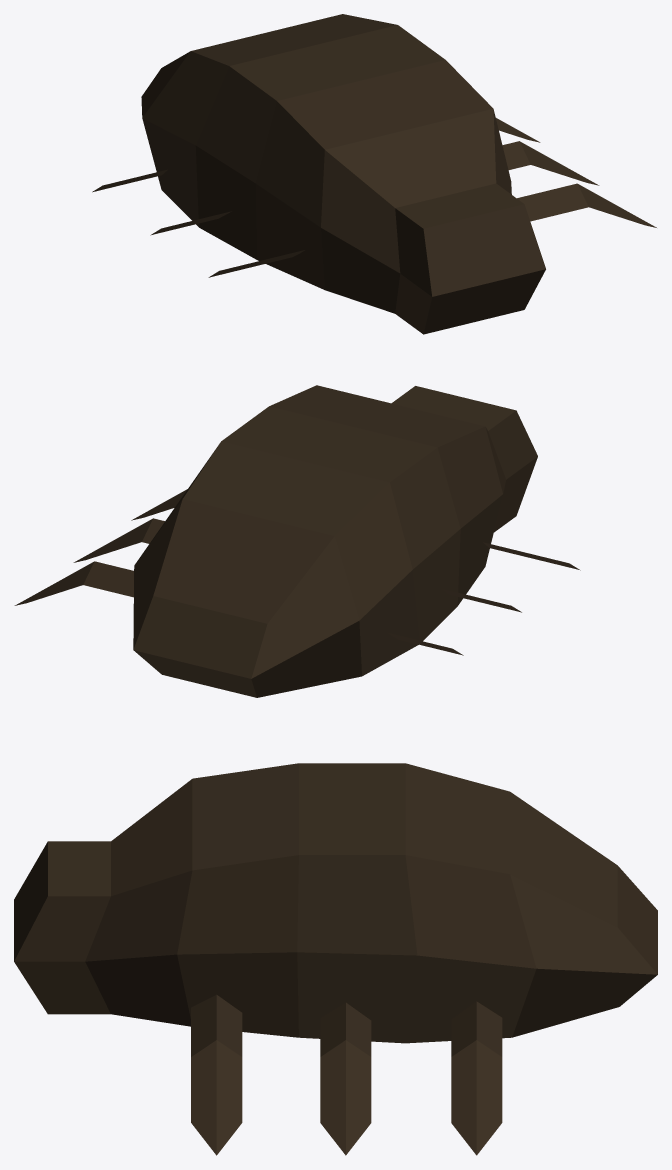
Rendered from bug1.fbx.
3 views of the same model, one above another, from view 1: azimuth 30°, elevation 25°; view 2: azimuth 150°, elevation 25°; view 3: azimuth 270°, elevation 25° (orthographic). The views are drawn at different scales.
Parts seen in each view (by area): view 1: Plane.001; view 2: Plane.001; view 3: Plane.001.
Part boxes in pixels (left/top/right/bottom): Plane.001: left=92, top=14, right=656, bottom=334; Plane.001: left=14, top=385, right=580, bottom=697; Plane.001: left=14, top=763, right=657, bottom=1155.
Bounding box in the file's own units: 625 × 209 × 593.
